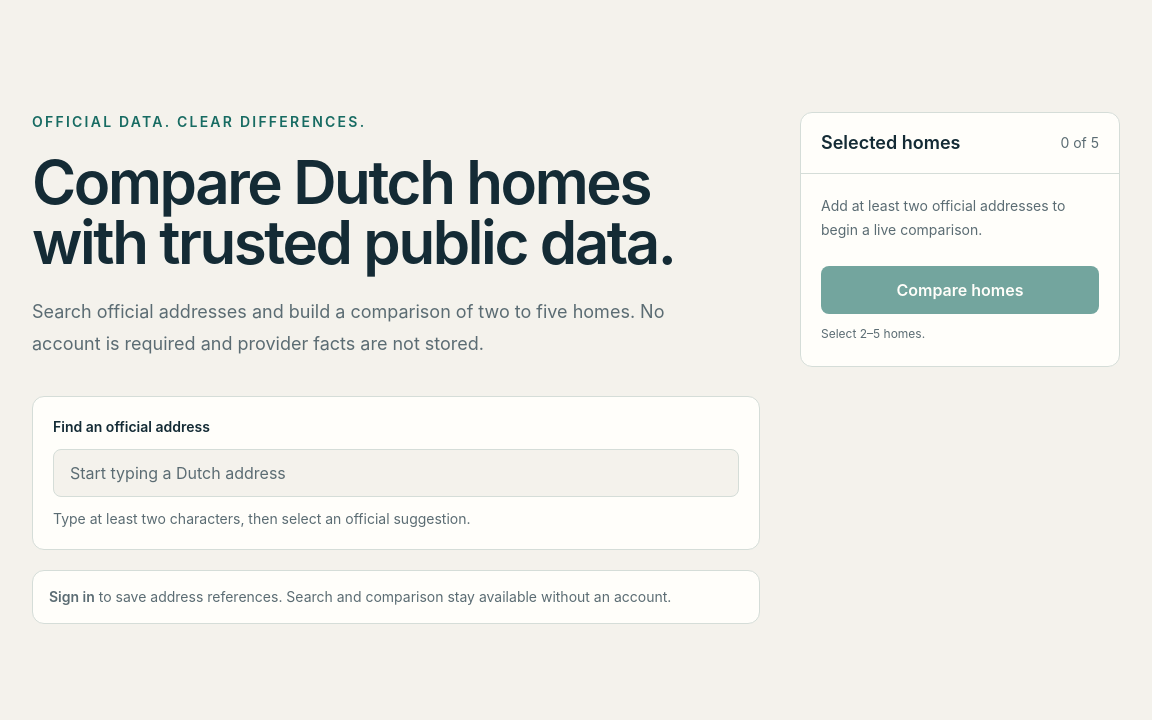
it: ComparisonBuilder › downloads a transient report and revokes its object URL
Type "Examplelaan 1" into the dropdown.
click(396, 473); type("Examplelaan 1")  # box [53,449,739,497]
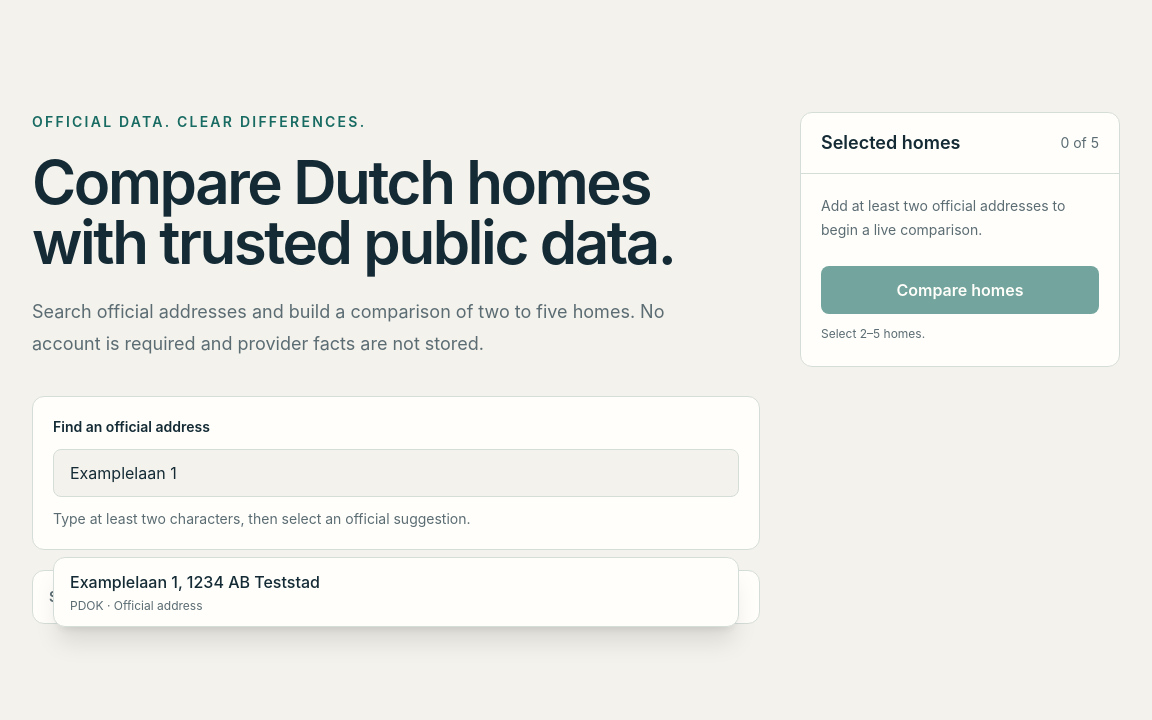
Click the option "Examplelaan 1, 1234 AB Teststad PDOK · Official address".
click(195, 582)  # box [54,558,738,626]
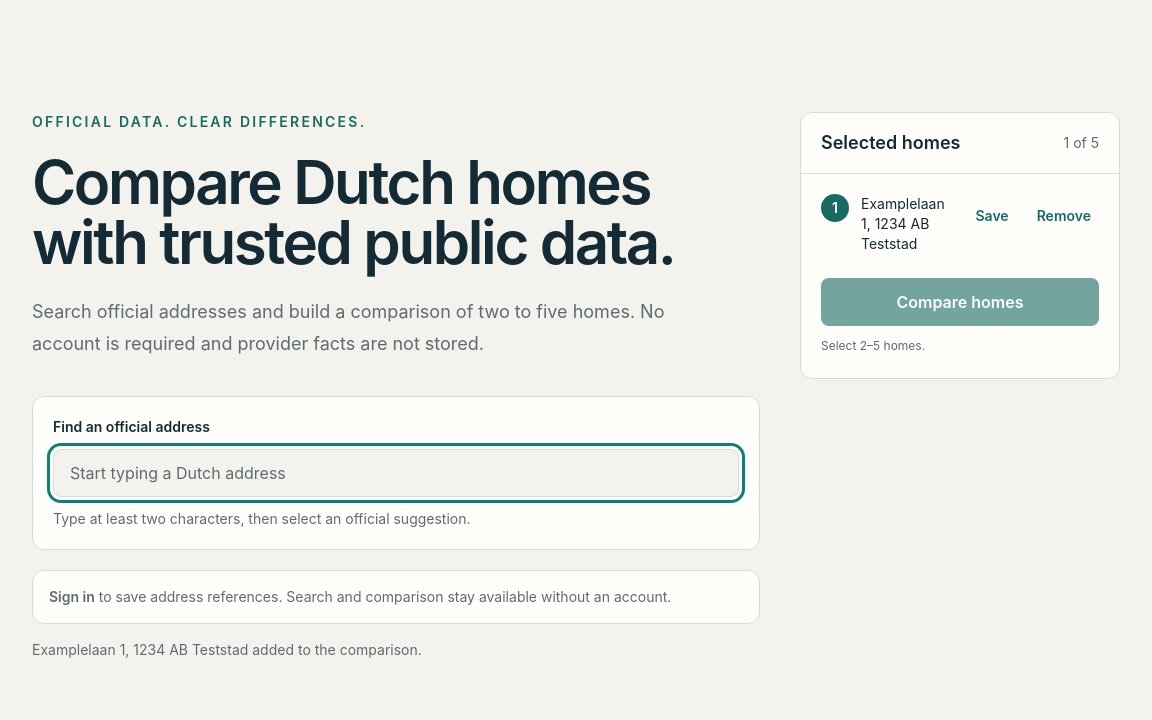
Type "Examplelaan 2" into the dropdown.
click(396, 473); type("Examplelaan 2")  # box [53,449,739,497]
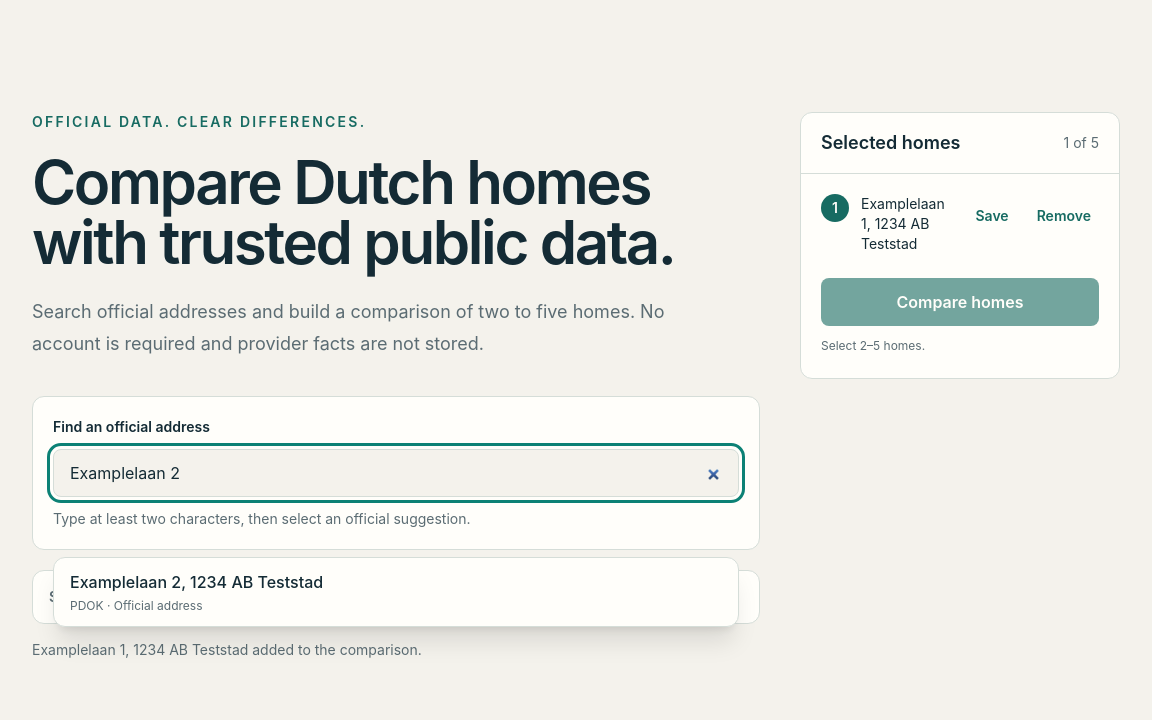
Click the option "Examplelaan 2, 1234 AB Teststad PDOK · Official address".
click(197, 582)  # box [54,558,738,626]
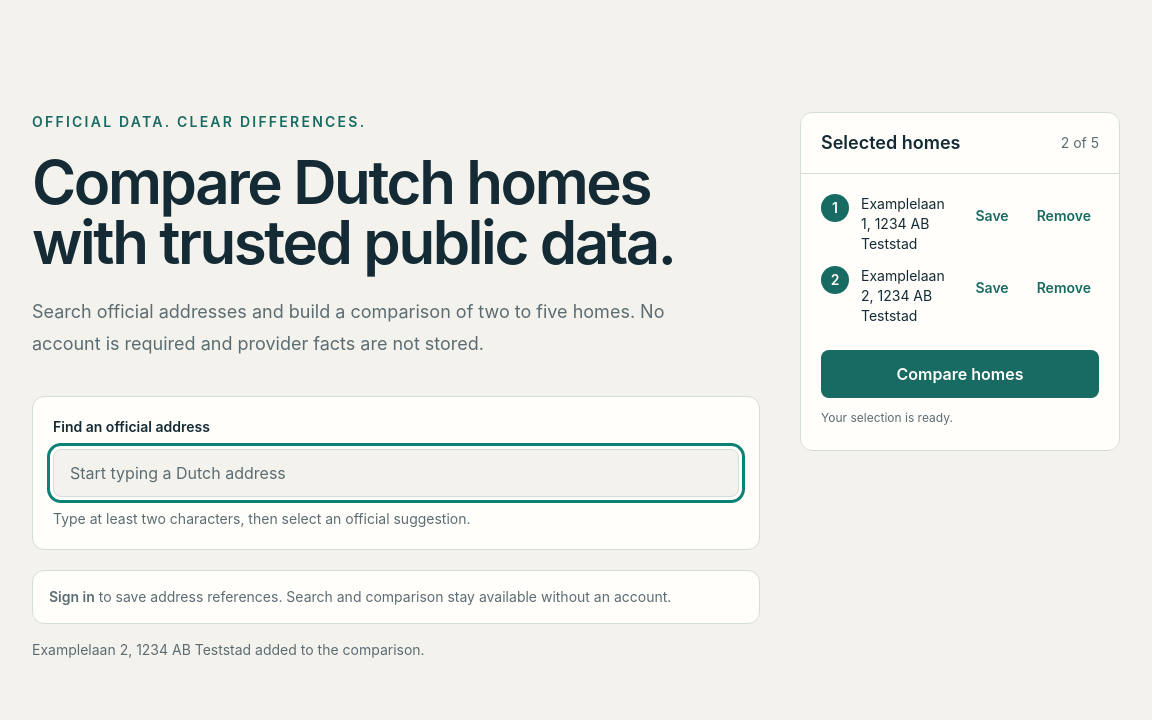
Click the button "Compare homes".
click(960, 374)  # box [821,350,1099,398]
(page scrolled)
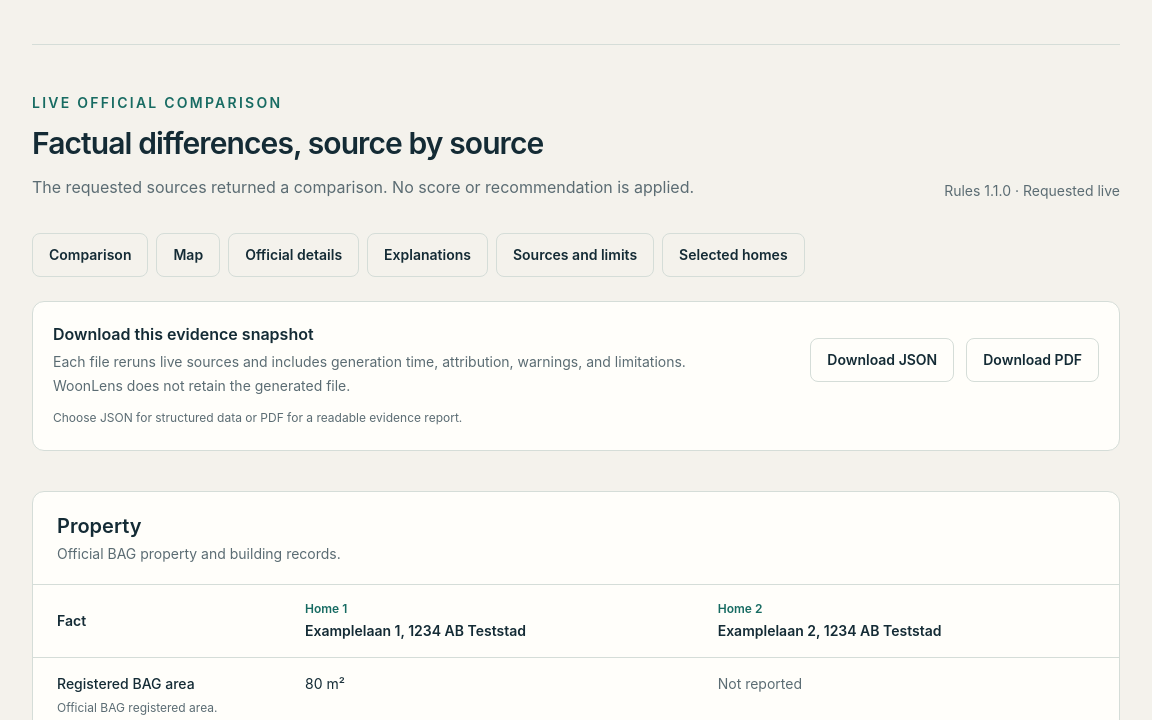
Expected: the heading "Factual differences, source by source" is shown, [32,125,543,161]
Click the button "Download JSON".
click(882, 360)  # box [810,338,954,382]
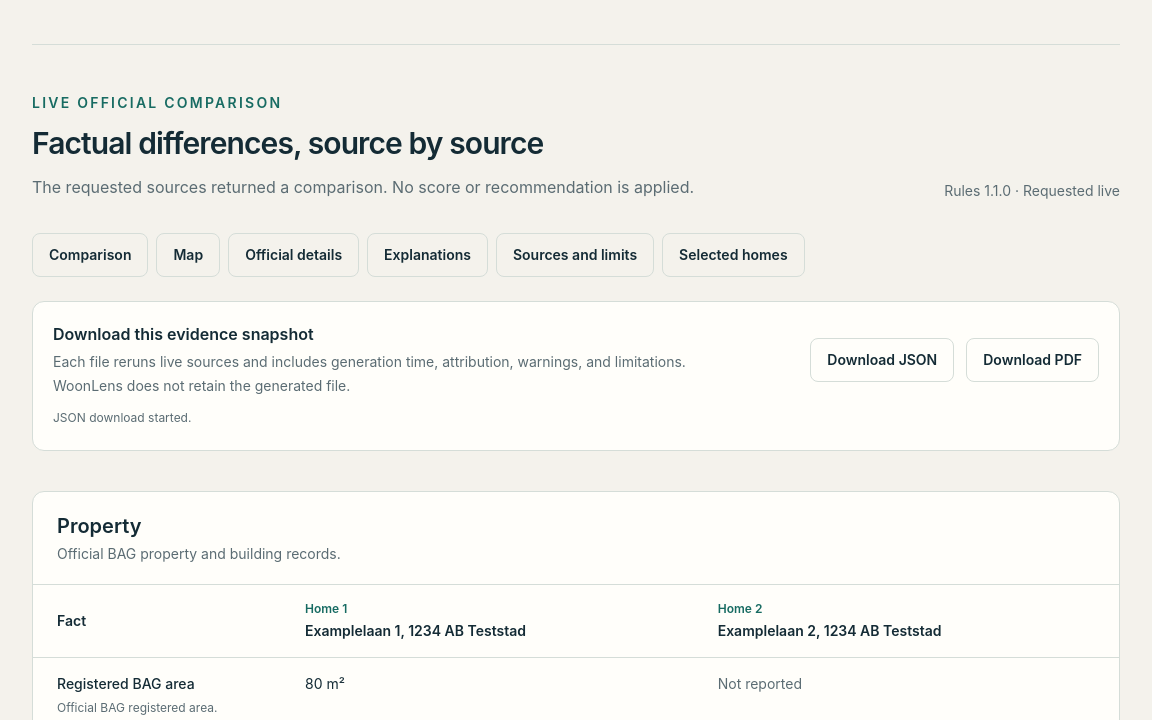
Expected: the text "JSON download started." is shown, [53,410,191,425]
